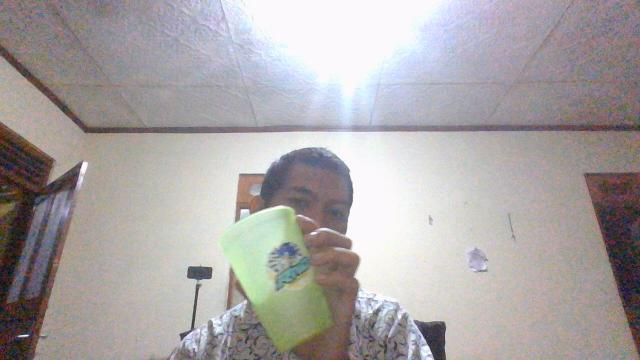botol-hijau: (218, 203, 338, 353)
